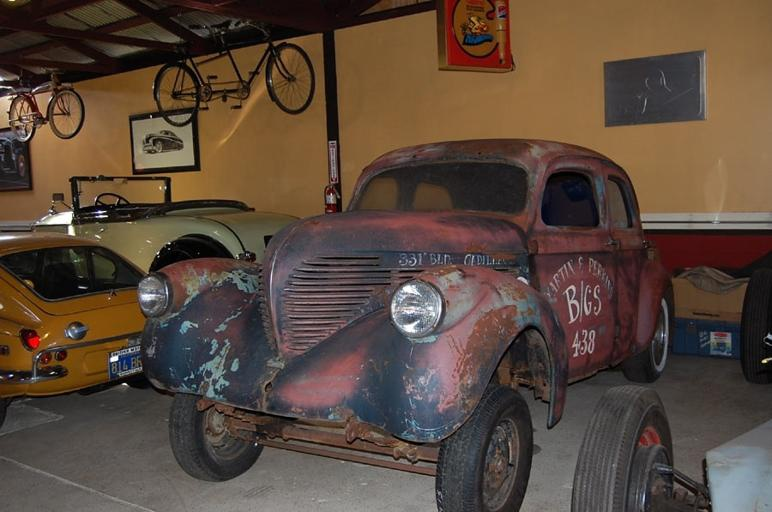non-vehicle: (152, 18, 315, 126), (6, 68, 85, 142)
